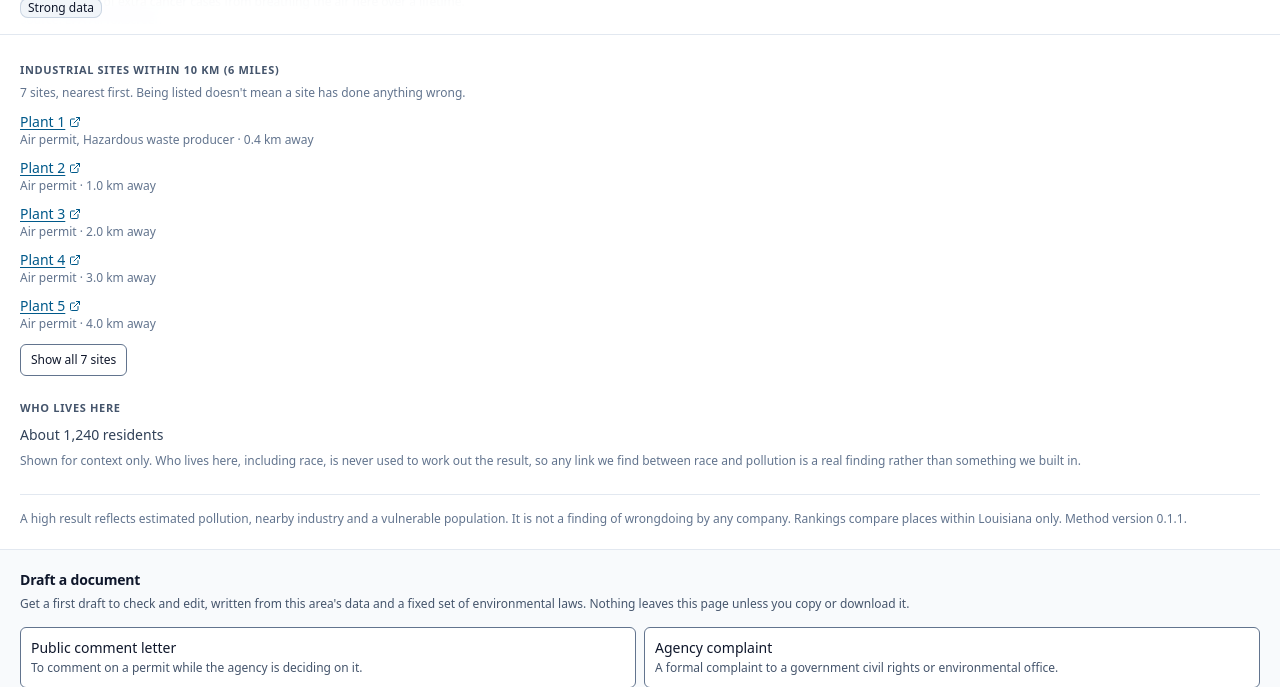
it: HexPanel › lists each facility once, nearest first, and the rest on request
(page scrolled)
Expected: the number of links "Plant 1" is 1, top-left (20, 112), bottom-right (81, 132)
Expected: the text "Air permit, Hazardous waste producer · 0.4 km away" is shown, top-left (20, 131), bottom-right (314, 148)
Click the button "Show all 7 sites": click(74, 360) top-left (20, 344), bottom-right (127, 376)
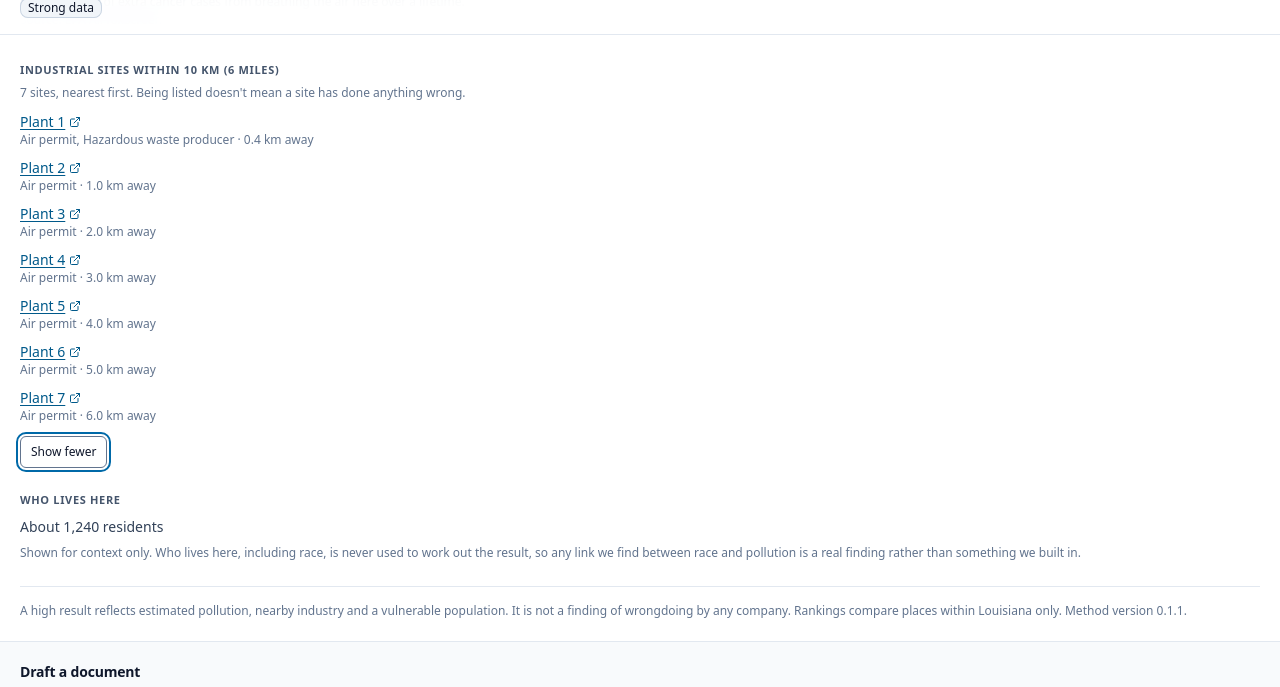
Now the link "Plant 7" is shown, box top-left (20, 388), bottom-right (81, 408)
